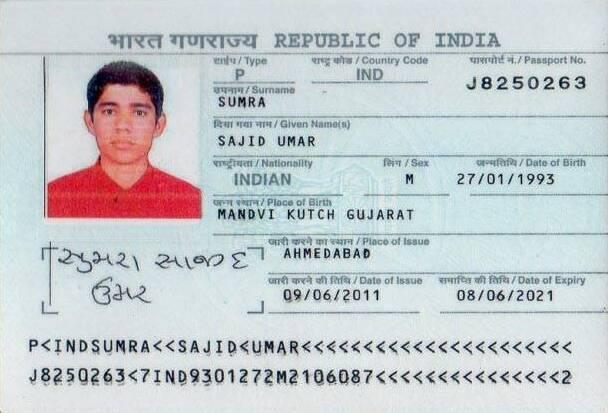DOB: (451, 167, 577, 194)
Surname: (206, 87, 298, 112)
country_code: (347, 59, 404, 88)
date_of_expiry: (449, 282, 586, 314)
date_of_issue: (266, 280, 394, 316)
details: (12, 336, 587, 405)
name: (212, 121, 394, 151)
nationality: (216, 162, 318, 190)
passport_no: (450, 61, 597, 96)
photo: (45, 53, 202, 218)
place_of_birth: (209, 199, 433, 228)
place_of_issue: (282, 242, 376, 269)
sex: (383, 167, 443, 191)
sign: (35, 239, 253, 317)
type: (217, 59, 268, 83)
